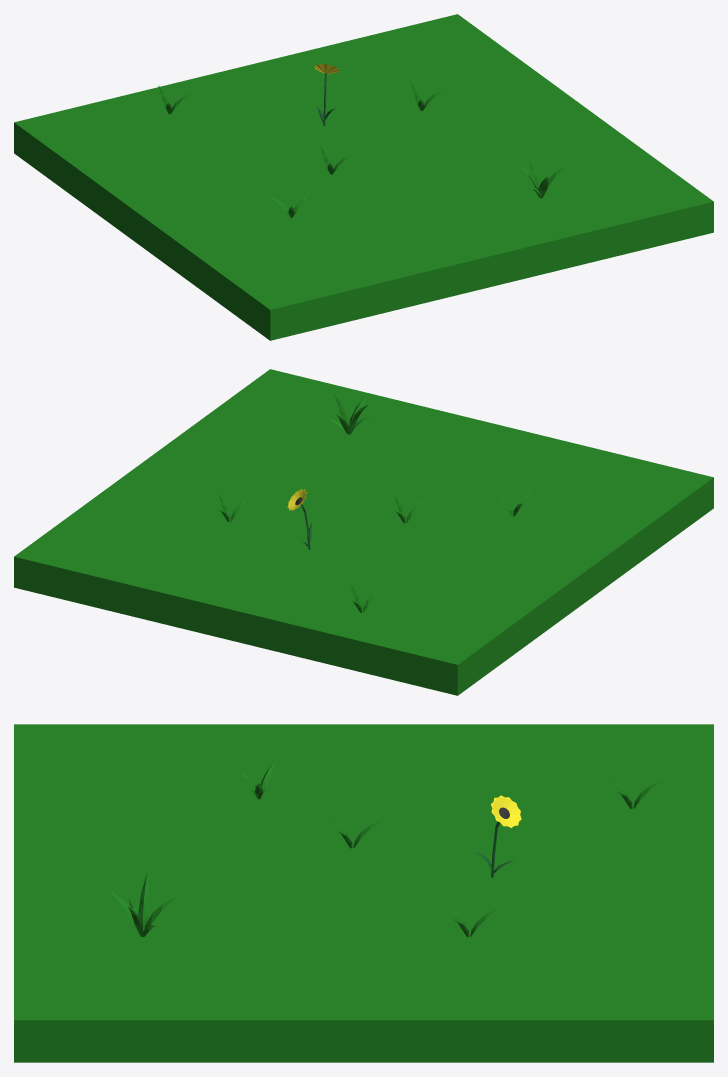
File: field3.fbx
The picture shows the model from 3 angles, top to bottom: view 1: azimuth 30°, elevation 25°; view 2: azimuth 150°, elevation 25°; view 3: azimuth 270°, elevation 25°; orthographic projection. The views are drawn at different scales.
Parts seen in each view (by area): view 1: Grass_Flat_6, Grass_Flat_7, Grass_Flat_8, Grass_Flat_3, Grass_Flat_2, Grass_Flat_1, Grass_Flat_5, Grass_Flat_0, Grass_Flat_4; view 2: Grass_Flat_3, Grass_Flat_5, Grass_Flat_4, Grass_Flat_2, Grass_Flat_6, Grass_Flat_7, Grass_Flat_1, Grass_Flat_8, Grass_Flat_0, Prop_Grass_Clump_4_9; view 3: Grass_Flat_5, Grass_Flat_1, Grass_Flat_8, Grass_Flat_6, Grass_Flat_4, Grass_Flat_2, Grass_Flat_0, Grass_Flat_7, Grass_Flat_3, Prop_Grass_Clump_4_9, Prop_Flower_Sunflower_17.
Part boxes in pixels (left/top/right/bottom): Grass_Flat_6: left=184, top=211, right=417, bottom=340; Grass_Flat_7: left=333, top=175, right=565, bottom=304; Grass_Flat_8: left=481, top=139, right=713, bottom=268; Grass_Flat_3: left=14, top=86, right=246, bottom=215; Grass_Flat_2: left=99, top=149, right=332, bottom=277; Grass_Flat_1: left=395, top=76, right=627, bottom=174; Grass_Flat_5: left=310, top=14, right=542, bottom=112; Grass_Flat_0: left=247, top=113, right=480, bottom=210; Grass_Flat_4: left=162, top=50, right=394, bottom=148; Grass_Flat_3: left=310, top=566, right=543, bottom=695; Grass_Flat_5: left=14, top=494, right=246, bottom=623; Grass_Flat_4: left=162, top=530, right=394, bottom=659; Grass_Flat_2: left=395, top=504, right=628, bottom=632; Grass_Flat_6: left=481, top=441, right=713, bottom=570; Grass_Flat_7: left=333, top=405, right=565, bottom=503; Grass_Flat_1: left=100, top=431, right=332, bottom=529; Grass_Flat_8: left=185, top=369, right=417, bottom=467; Grass_Flat_0: left=247, top=468, right=480, bottom=565; Prop_Grass_Clump_4_9: left=327, top=394, right=371, bottom=434; Grass_Flat_5: left=480, top=921, right=713, bottom=1062; Grass_Flat_1: left=247, top=921, right=480, bottom=1062; Grass_Flat_8: left=14, top=921, right=247, bottom=1062; Grass_Flat_6: left=14, top=724, right=247, bottom=822; Grass_Flat_4: left=480, top=823, right=713, bottom=921; Grass_Flat_2: left=247, top=724, right=480, bottom=822; Grass_Flat_0: left=247, top=823, right=480, bottom=921; Grass_Flat_7: left=14, top=823, right=247, bottom=921; Grass_Flat_3: left=480, top=724, right=713, bottom=822; Prop_Grass_Clump_4_9: left=109, top=872, right=176, bottom=937; Prop_Flower_Sunflower_17: left=474, top=795, right=521, bottom=877.
Bounding box in the file's own units: 30 × 5.88 × 30.
